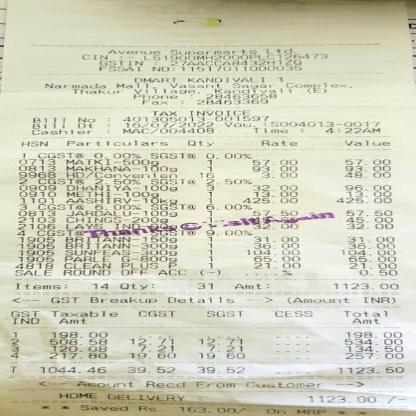receipts: (1, 4, 413, 413)
